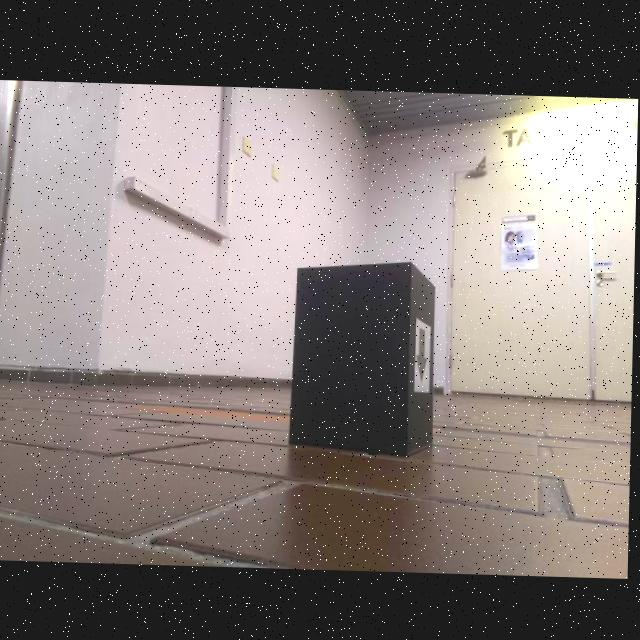DOWN: (417, 325, 430, 381)
